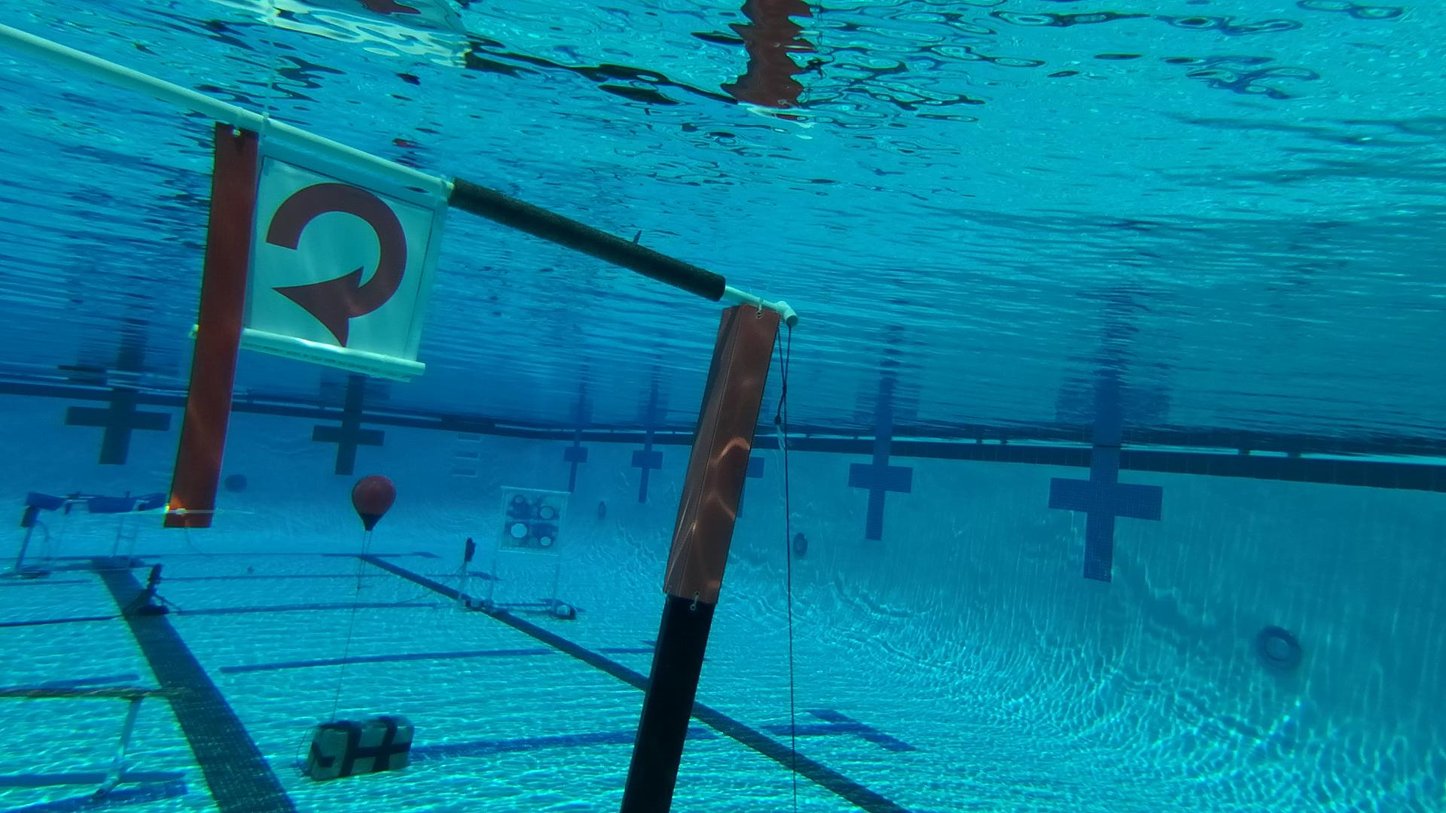buoy: (349, 473, 395, 531)
coral-box-side: (13, 486, 163, 579)
path: (0, 680, 187, 798)
red octagon: (510, 522, 528, 539), (540, 506, 555, 519), (540, 536, 552, 547), (514, 495, 524, 504)
red-gate-sign: (205, 112, 454, 381)
